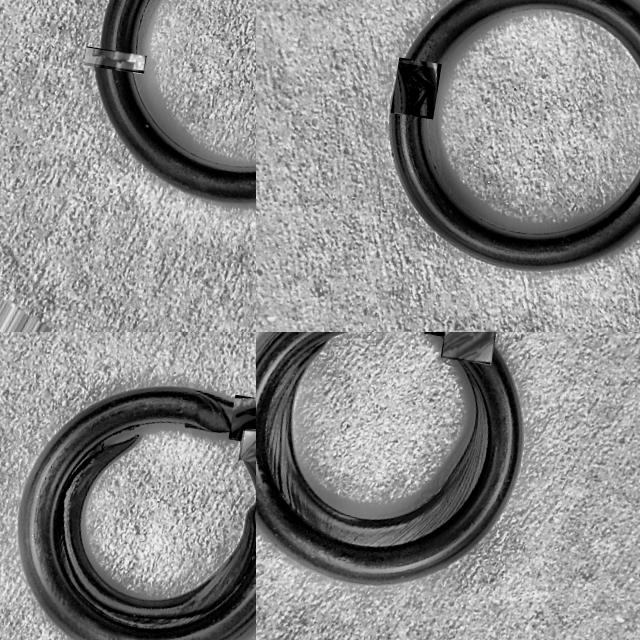切割缺陷: (397, 63, 437, 116), (193, 390, 235, 423), (442, 332, 493, 359)
挤压缺陷: (86, 49, 145, 72), (232, 405, 256, 439)
裂纹: (256, 332, 488, 547), (52, 434, 256, 627), (185, 424, 208, 433)
